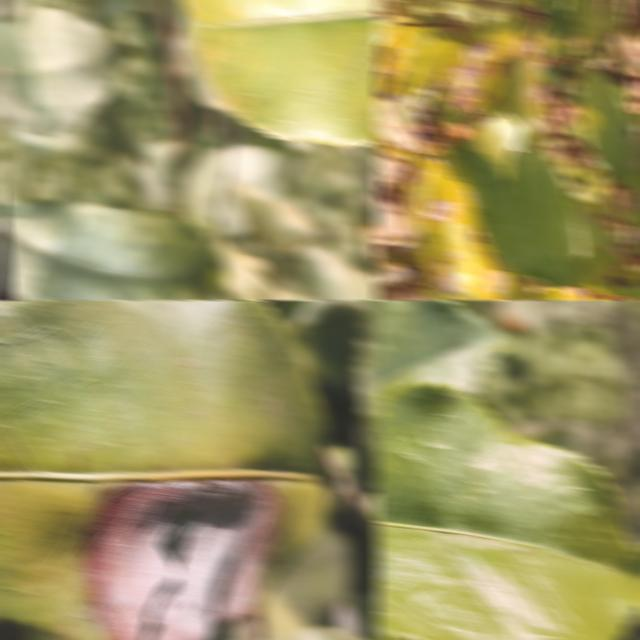Leaf: (0, 300, 326, 640), (374, 381, 640, 640), (180, 0, 380, 145), (444, 104, 591, 286), (0, 201, 225, 300), (0, 7, 135, 133), (416, 15, 521, 146), (374, 300, 512, 397), (417, 159, 510, 300), (577, 66, 633, 182), (231, 182, 321, 252), (493, 37, 546, 139), (353, 300, 380, 486), (296, 242, 380, 300), (393, 24, 462, 94), (182, 146, 229, 229), (226, 143, 297, 196), (374, 27, 410, 95), (534, 0, 576, 46), (569, 0, 611, 45), (220, 183, 249, 236), (374, 19, 406, 57)
